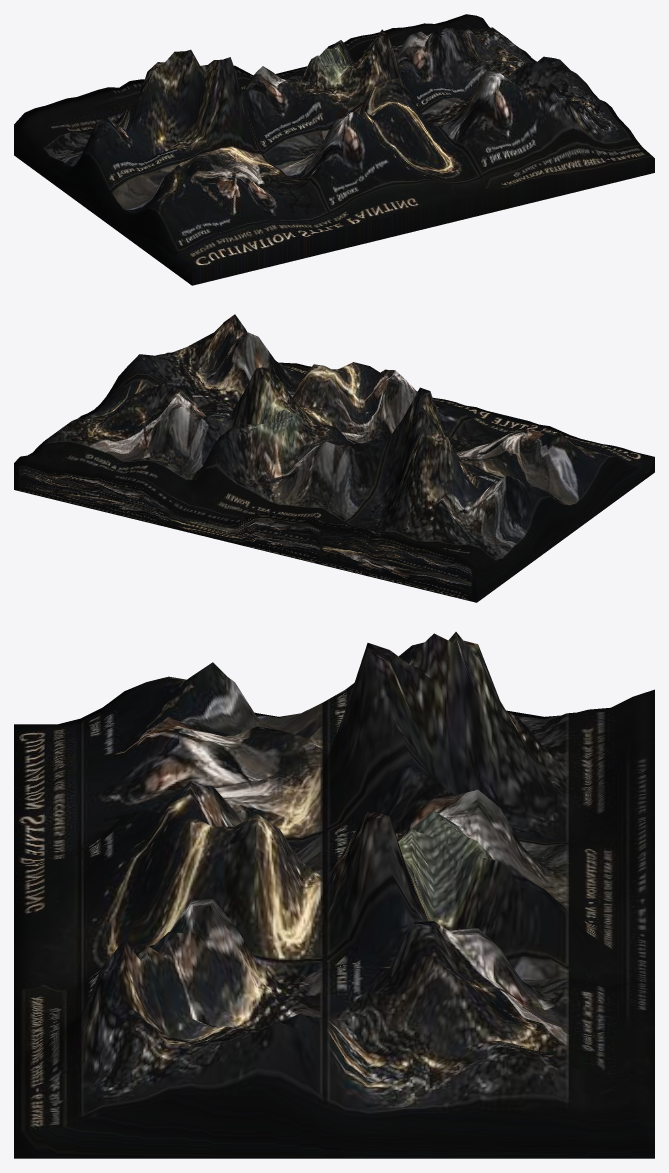
Rendered from CUL_58_Painting_Cultivation.glb.
3 views of the same model, one above another, from view 1: azimuth 30°, elevation 25°; view 2: azimuth 150°, elevation 25°; view 3: azimuth 270°, elevation 25° (orthographic). The views are drawn at different scales.
Parts seen in each view (by area): view 1: CUL_58_Painting_Cultivation; view 2: CUL_58_Painting_Cultivation; view 3: CUL_58_Painting_Cultivation.
Part boxes in pixels (x1,y1,x2,y2): CUL_58_Painting_Cultivation: [14, 14, 654, 285]; CUL_58_Painting_Cultivation: [14, 314, 654, 602]; CUL_58_Painting_Cultivation: [14, 632, 654, 1158].
Size of the model in its own units: 2 by 0.51 by 1.33.
1 material, 1 textured.
